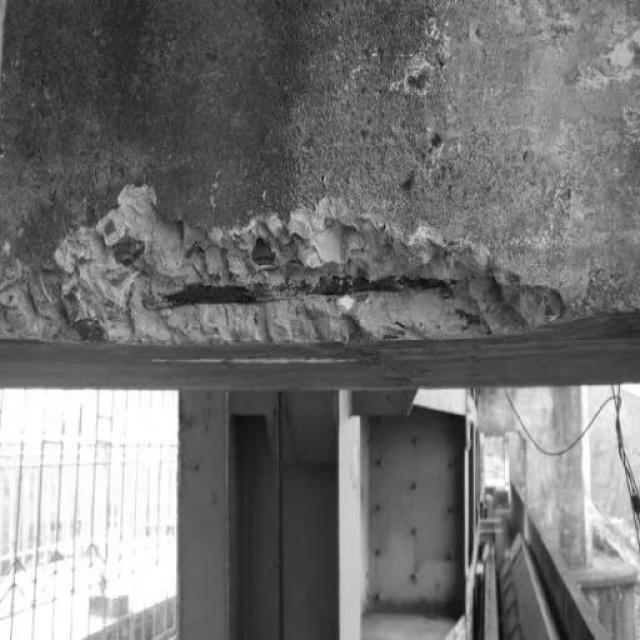D0w0: (0, 185, 565, 342)
